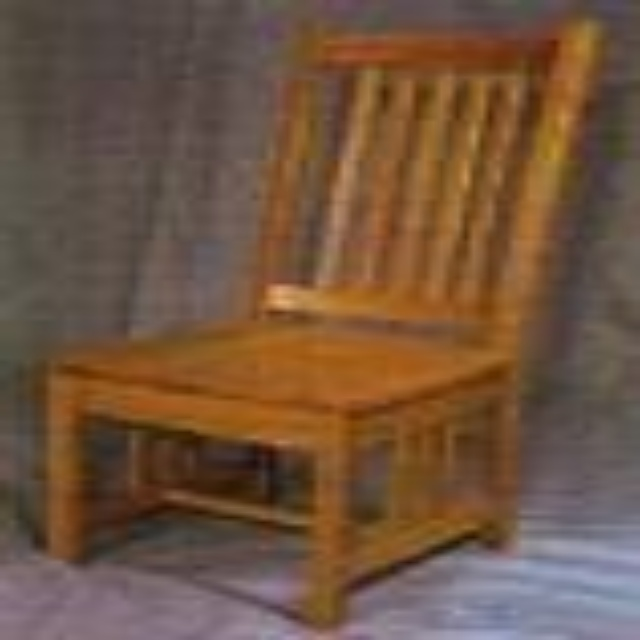obstacle: (0, 0, 632, 635)
